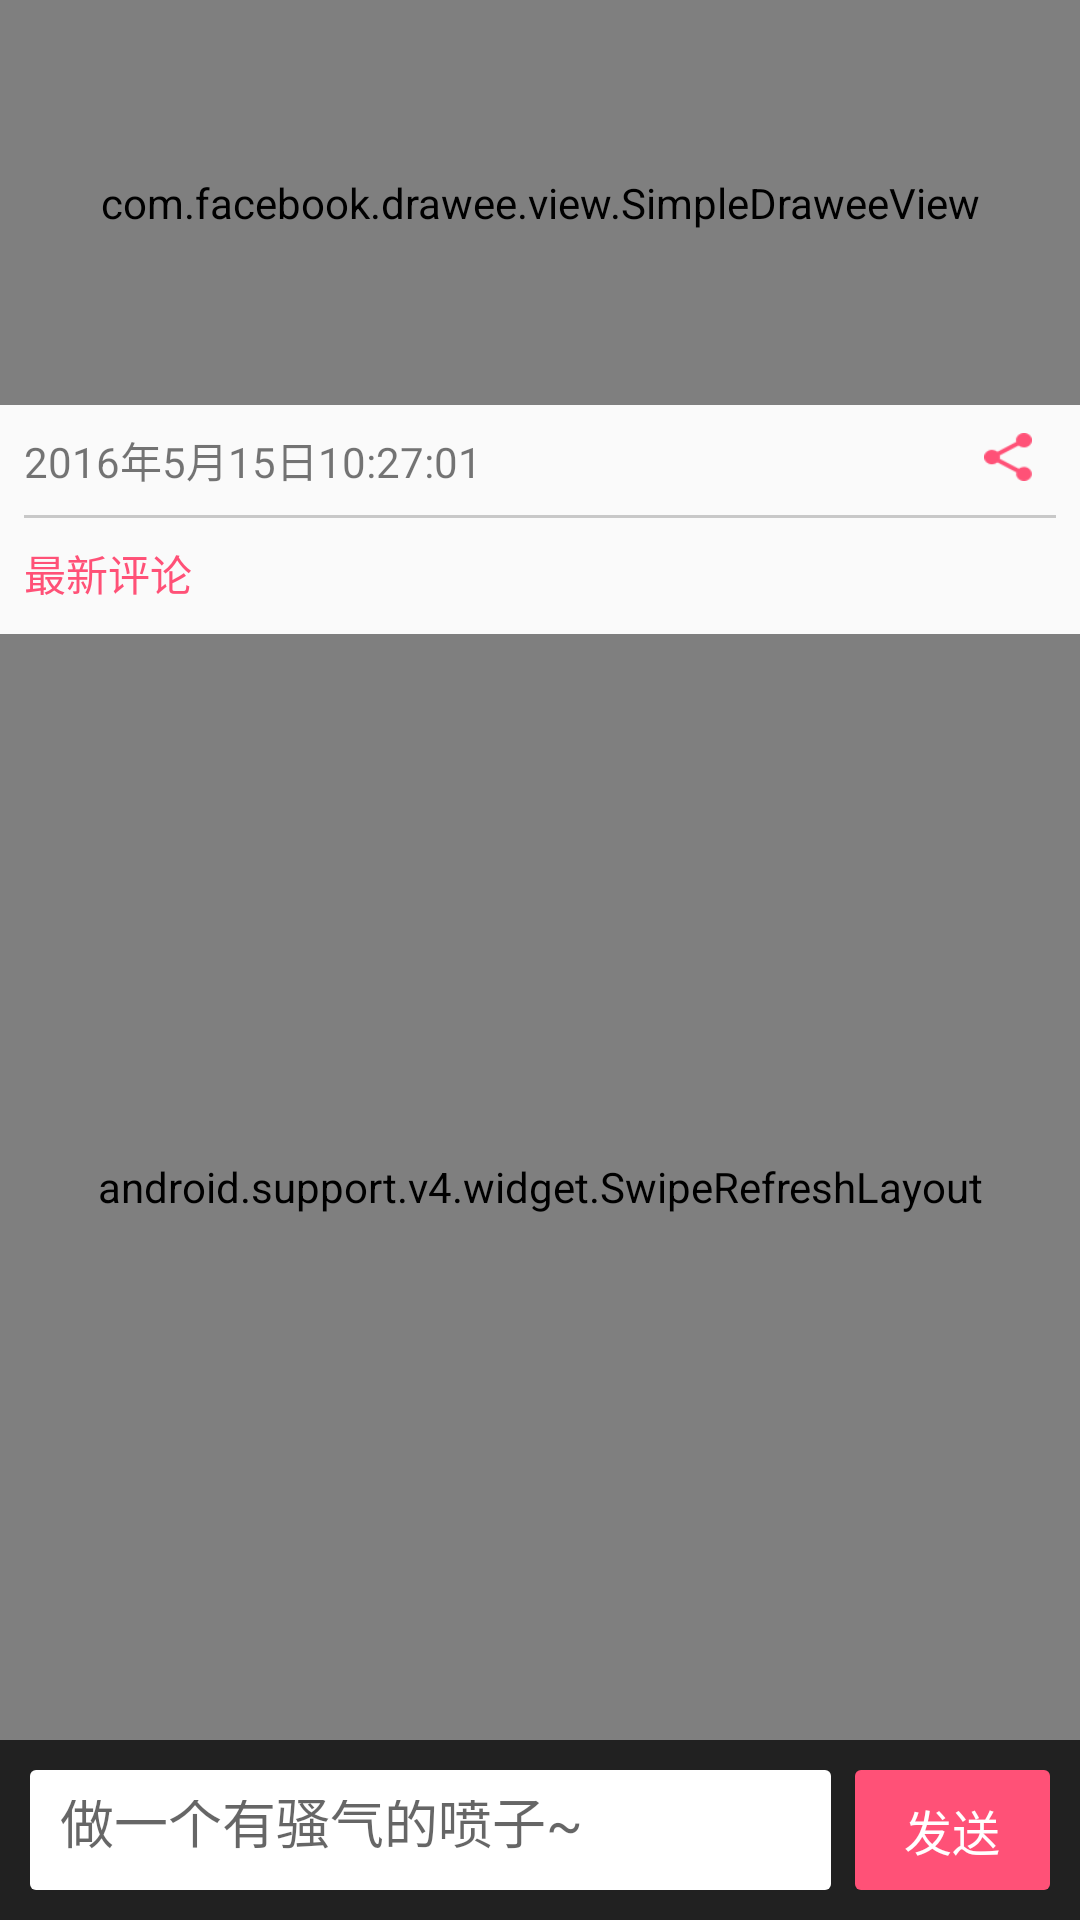

Screen size 1080 × 1920. Icon name, then its center in pixels as (x=x, y=y):
share: (x=1008, y=457)
